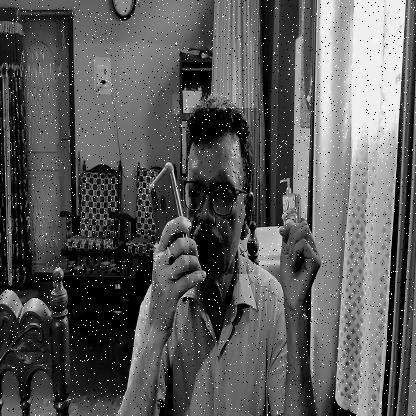Distracted: (189, 108, 257, 274)
